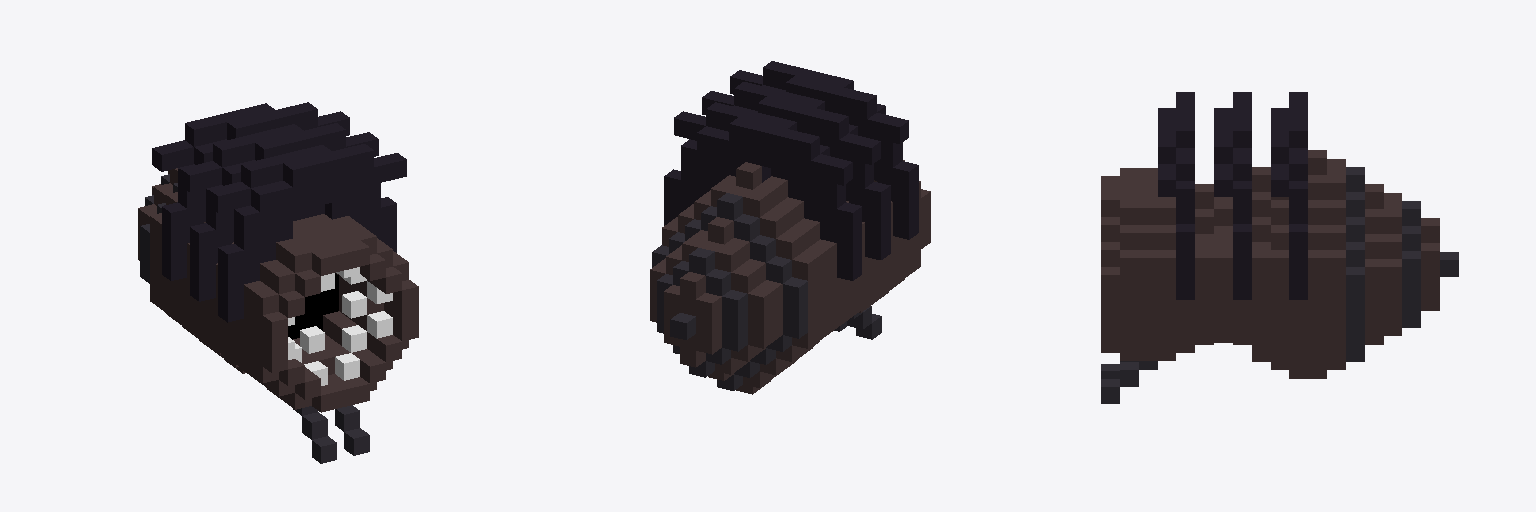
The picture shows the model from 3 angles: view 1: azimuth 30°, elevation 25°; view 2: azimuth 150°, elevation 25°; view 3: azimuth 270°, elevation 25°; orthographic projection.
Visible parts, largest first — view 1: monster3_die3; view 2: monster3_die3; view 3: monster3_die3.
Part boxes in pixels (left/top/right/bottom): monster3_die3: left=138, top=102, right=418, bottom=463; monster3_die3: left=650, top=61, right=930, bottom=394; monster3_die3: left=1101, top=92, right=1458, bottom=403.
Size of the model in its own units: 11 by 16 by 19.
Materials: 1 (1 with a texture image).